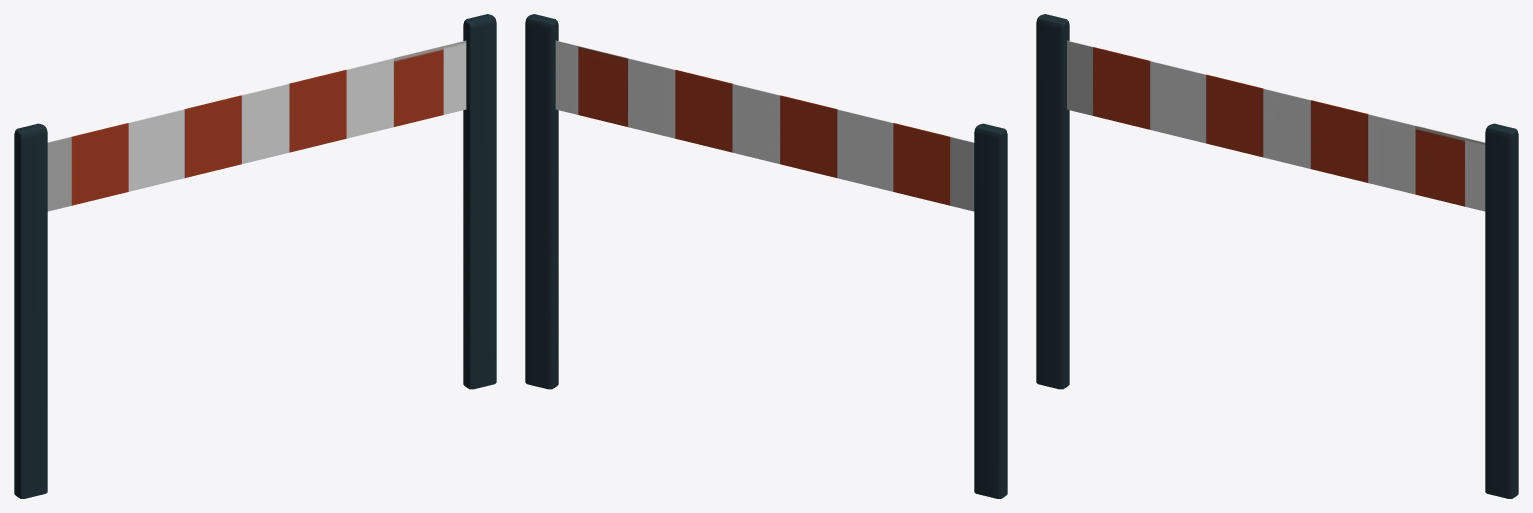
Rendered from hurdle2-transformed.glb.
3 renders of one model, left to right at view 1: azimuth 30°, elevation 25°; view 2: azimuth 150°, elevation 25°; view 3: azimuth 330°, elevation 25°, orthographic.
Visible parts, largest first — view 1: obstacele; view 2: obstacele; view 3: obstacele.
Boxes of the visible parts, x1,y1,x2,y2 form: obstacele: (14, 14, 496, 498); obstacele: (525, 14, 1007, 498); obstacele: (1036, 14, 1518, 498).
Bounding box in the file's own units: 1.21 × 0.8839 × 0.0375.
1 material, 1 textured.
